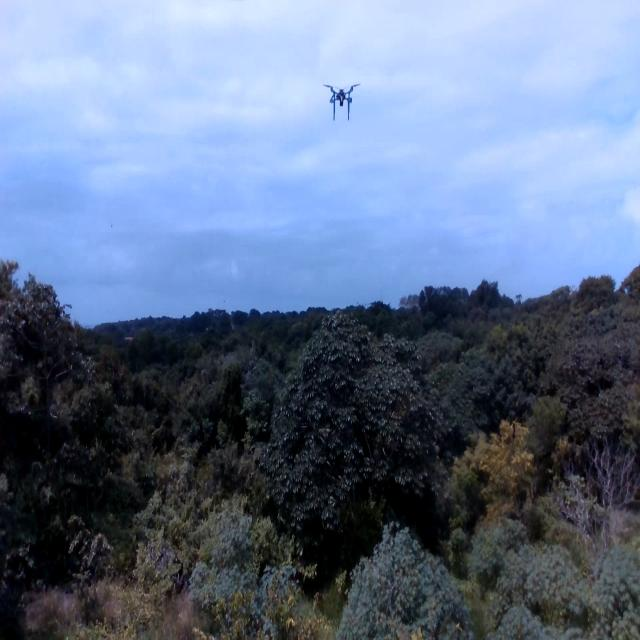-uav-: (319, 72, 366, 128)
